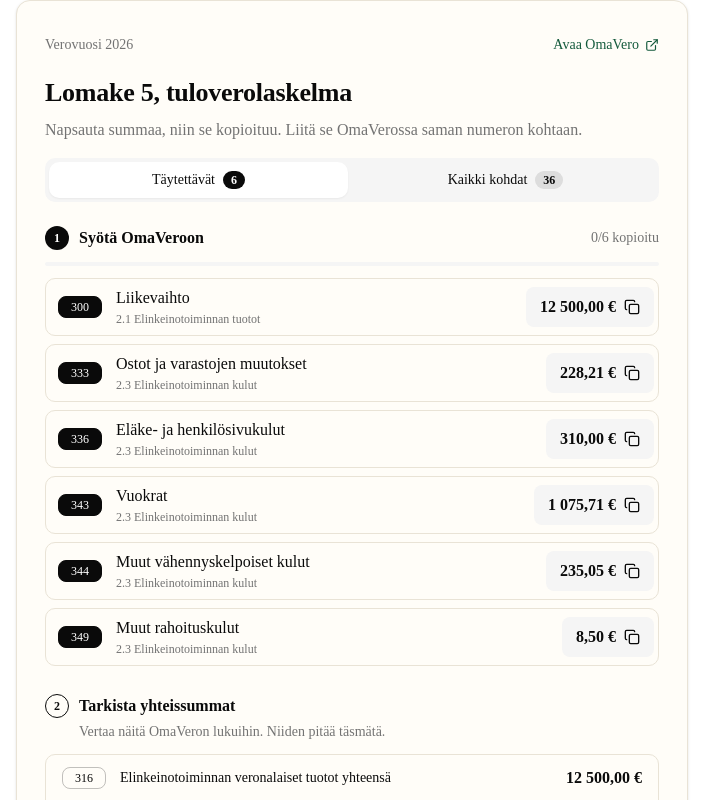
Form5View › lists the fields in the form's order and copies an amount by its code
This screenshot has width=705, height=800.
Expected: the text "Liikevaihto" is shown, [116,288,190,306]
Expected: the text "Saadut avustukset ja tuet" is not shown
Click the button named "Kopioi kohta 300: 12500,00".
click(590, 306)  # box [526,286,654,326]
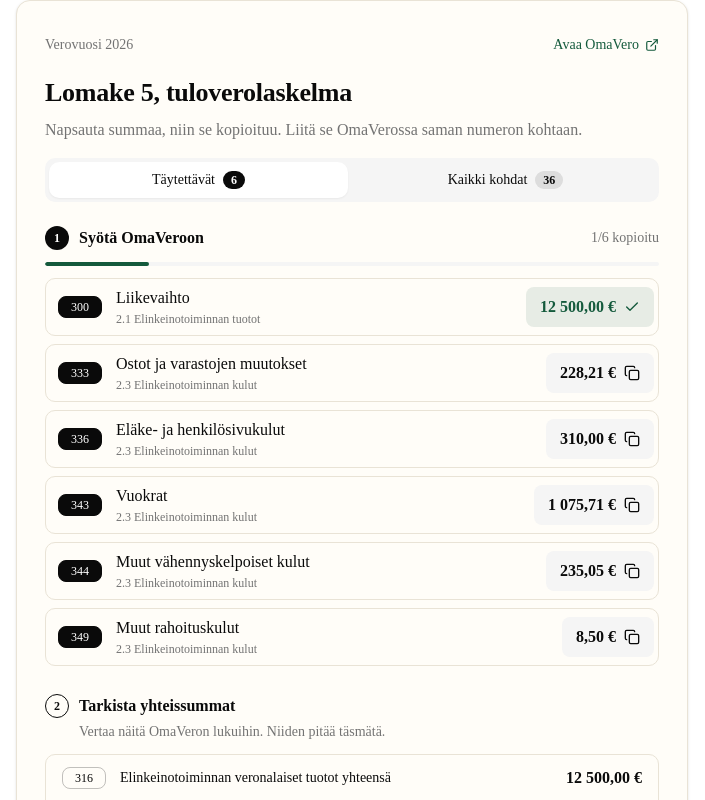
Result: the button named "Kopioitu: kohta 300, 12500,00. Kopioi uudelleen" is shown at [526,286,654,326]
Result: the text "1/6 kopioitu" is shown at [591,228,659,248]
Click the button "Kaikki kohdat 36".
click(506, 180)  # box [356,162,655,198]
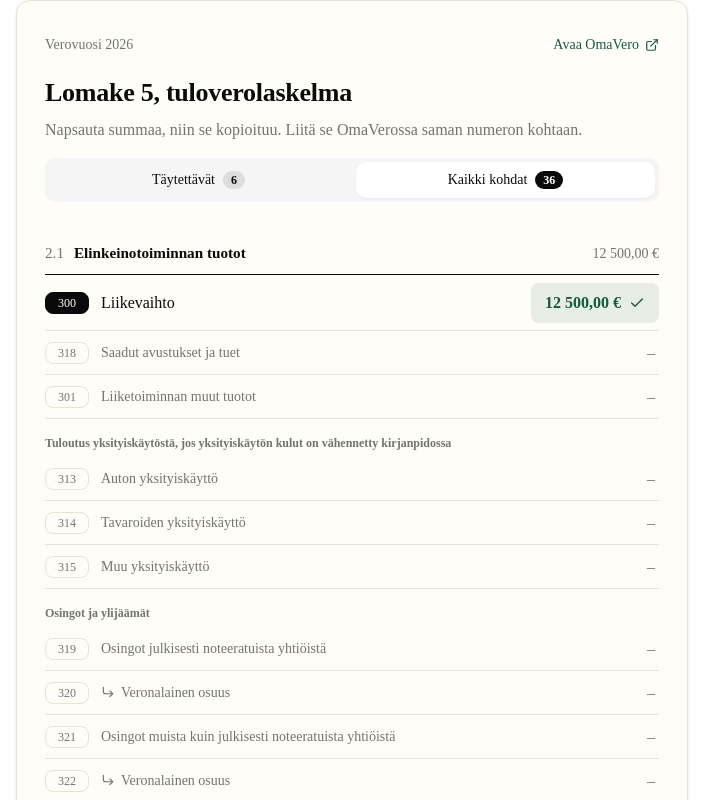
Result: the text "Saadut avustukset ja tuet" is shown at [101,345,240,360]
Result: the text "Veronalainen osuus" is shown 2 times at [101,685,230,700]; [101,773,230,788]
